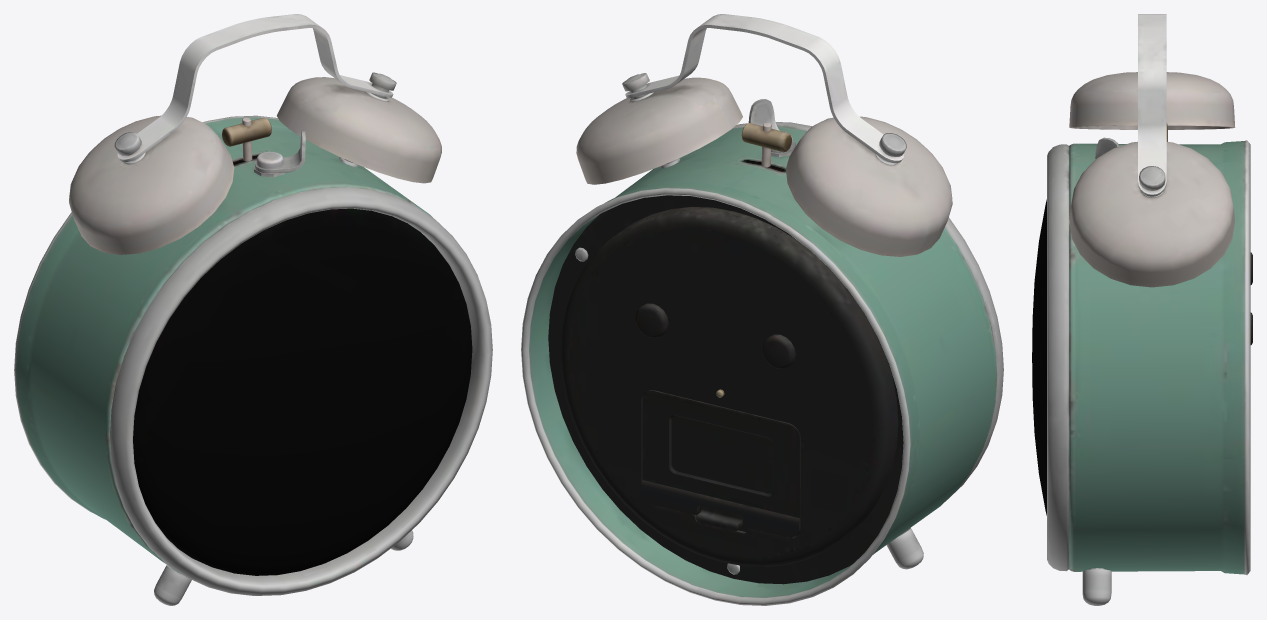
File: alarm_clock_01.glb
The picture shows the model from 3 angles, left to right: view 1: azimuth 30°, elevation 25°; view 2: azimuth 150°, elevation 25°; view 3: azimuth 270°, elevation 25°; orthographic projection. The views are drawn at different scales.
Parts seen in each view (by area): view 1: alarm_clock_01; view 2: alarm_clock_01; view 3: alarm_clock_01.
Part boxes in pixels (x1,y1,x2,y2): alarm_clock_01: (14, 14, 492, 605); alarm_clock_01: (521, 14, 1003, 605); alarm_clock_01: (1032, 14, 1252, 605).
Bounding box in the file's own units: 0.1317 × 0.1742 × 0.0667.
2 materials, 2 textured.
